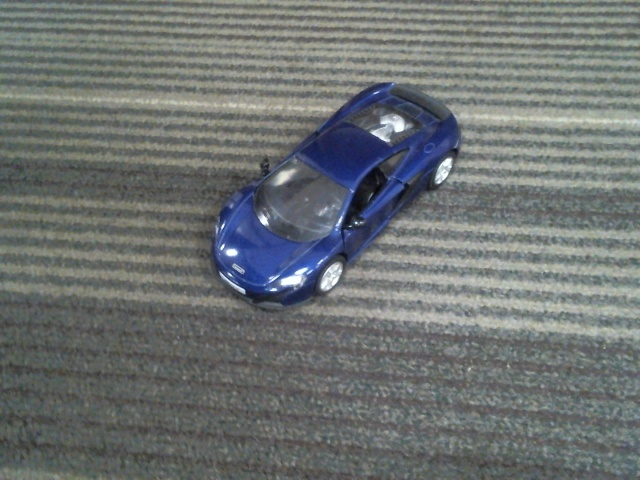car: (213, 80, 463, 313)
